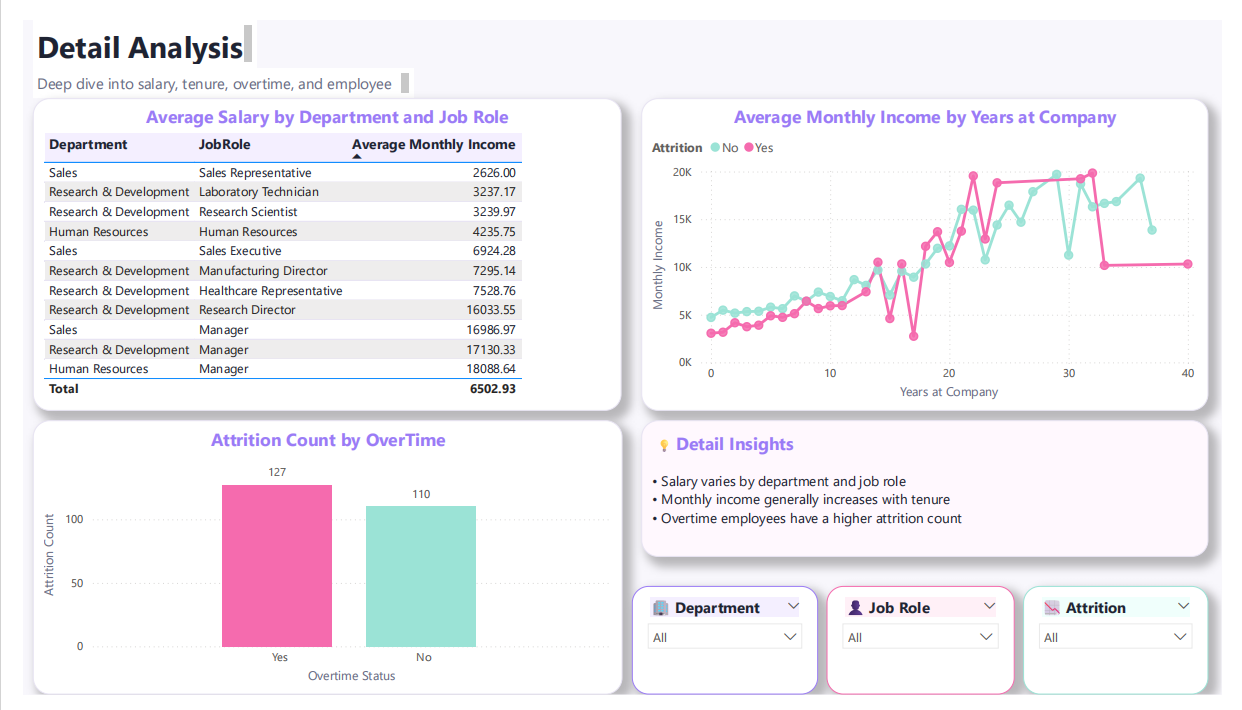

What the dashboard file says about the page in this screenshot:
{"tool":"powerbi","page":{"name":"Detail Analysis","canvas":[1280,720],"ordinal":1},"visuals":[{"type":"textbox","box":[9.7,0,238.9,50.7],"z":0},{"type":"textbox","box":[9.7,50.7,407.8,32.6],"z":1000},{"type":"tableEx","title":"Average Salary by Department and Job Role","fields":{"Values":["HR.Department","HR.JobRole","Avg(HR.MonthlyIncome)"]},"box":[9.7,83.2,629.8,334.2],"z":2000},{"type":"lineChart","title":"Average Monthly Income by Years at Company","fields":{"Category":["HR.YearsAtCompany"],"Y":["Avg(HR.MonthlyIncome)"],"Series":["HR.Attrition"]},"box":[659.9,83.2,605.6,334.2],"z":3000},{"type":"clusteredColumnChart","title":"Attrition Count by OverTime","fields":{"Category":["HR.OverTime"],"Y":["Sum(HR.AttritionFlag)"]},"box":[10,427,630,293],"z":4000},{"type":"textbox","box":[659.9,427.1,605.6,146],"z":5000},{"type":"slicer","fields":{"Values":["HR.Department"]},"box":[650.3,604.2,199.1,115.8],"z":6000},{"type":"slicer","fields":{"Values":["HR.JobRole"]},"box":[857.8,604.2,201.5,115.8],"z":7000},{"type":"slicer","fields":{"Values":["HR.Attrition"]},"box":[1067.7,604.2,197.9,115.8],"z":8000}]}

Visuals, with their boxes in screenshot pixels (x1, y1, x2, y2), scaled from the page's 1280x720 canvas onto the 1242x710 screenshot:
textbox: bbox=(9, 0, 241, 50)
textbox: bbox=(9, 50, 405, 82)
"Average Salary by Department and Job Role" tableEx: bbox=(9, 82, 621, 412)
"Average Monthly Income by Years at Company" lineChart: bbox=(640, 82, 1228, 412)
"Attrition Count by OverTime" clusteredColumnChart: bbox=(10, 421, 621, 709)
textbox: bbox=(640, 421, 1228, 565)
slicer - HR.Department: bbox=(631, 596, 824, 709)
slicer - HR.JobRole: bbox=(832, 596, 1028, 709)
slicer - HR.Attrition: bbox=(1036, 596, 1228, 709)
